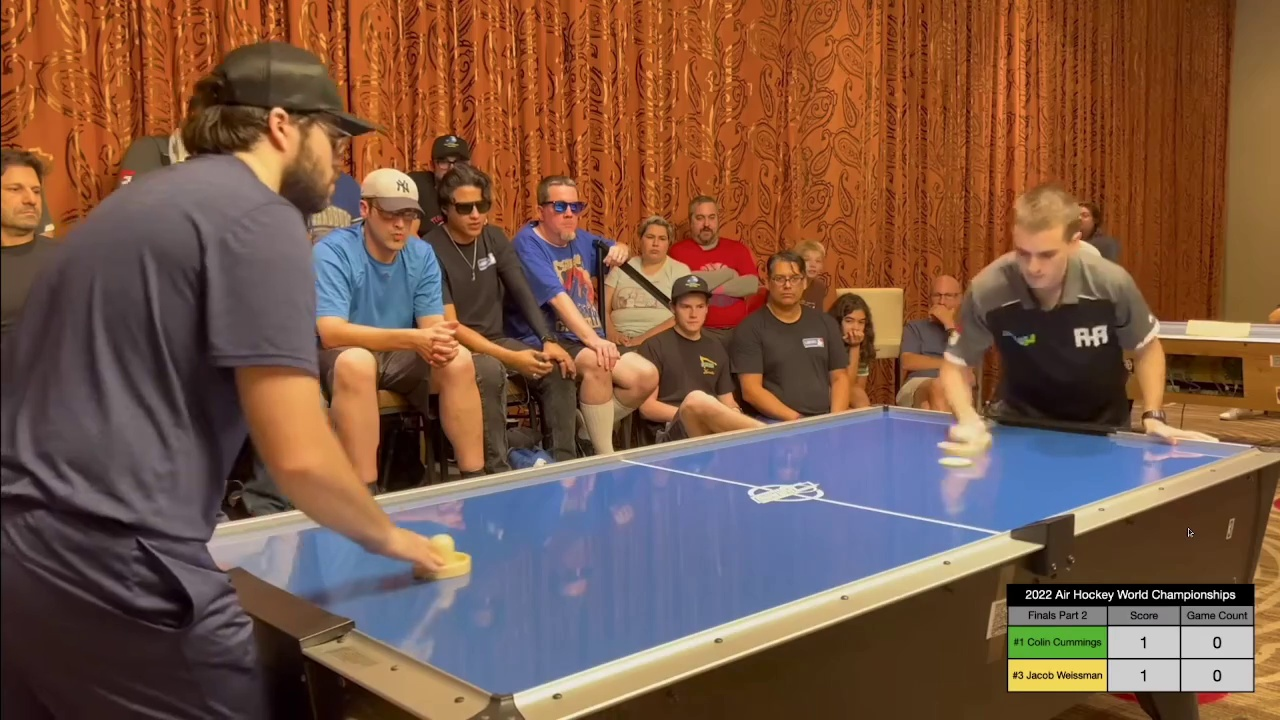player: (414, 535, 480, 580), (931, 423, 996, 456)
puck: (933, 457, 975, 471)
table: (194, 401, 1280, 681)
